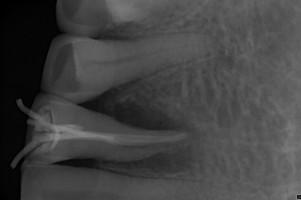Furcation Involvement: (95, 88, 200, 174)
